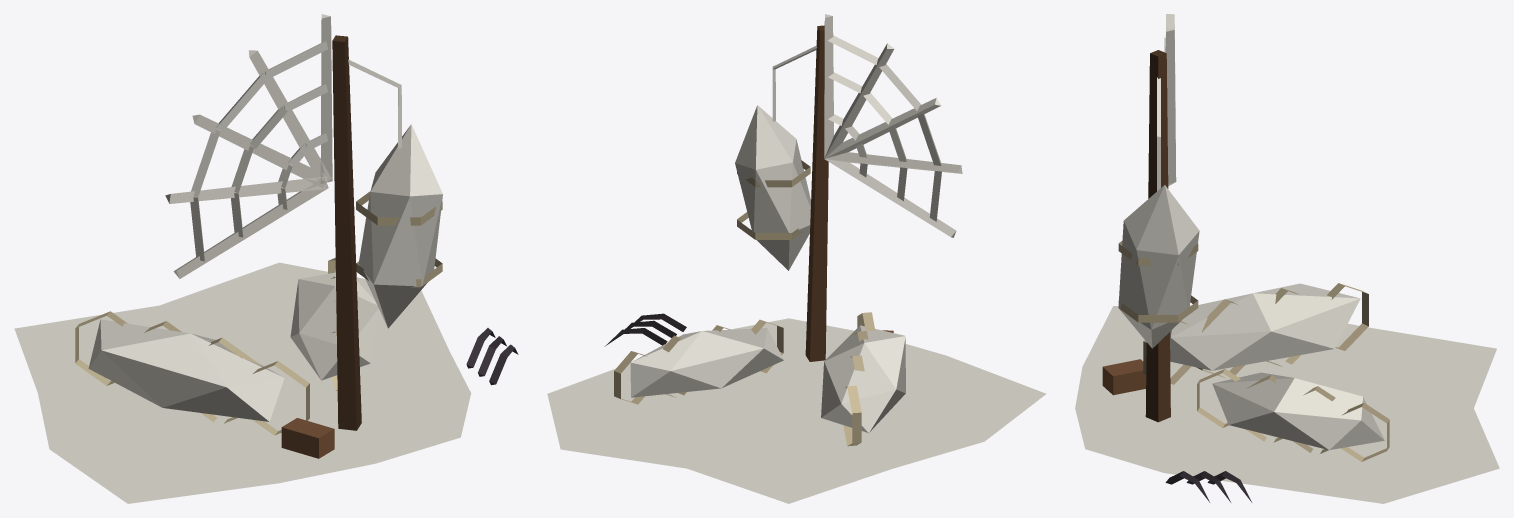
Rendered from spider_cocoons.glb.
3 renders of one model, left to right at view 1: azimuth 30°, elevation 25°; view 2: azimuth 150°, elevation 25°; view 3: azimuth 270°, elevation 25°, orthographic. The views are drawn at different scales.
Parts seen in each view (by area): view 1: spider_cocoons; view 2: spider_cocoons; view 3: spider_cocoons.
Boxes of the visible parts, box(x1,y1,x2,y2) form: spider_cocoons: box(14, 14, 518, 503); spider_cocoons: box(547, 14, 1046, 503); spider_cocoons: box(1075, 14, 1499, 503).
Bounding box in the file's own units: 2.27 × 2 × 2.02.
